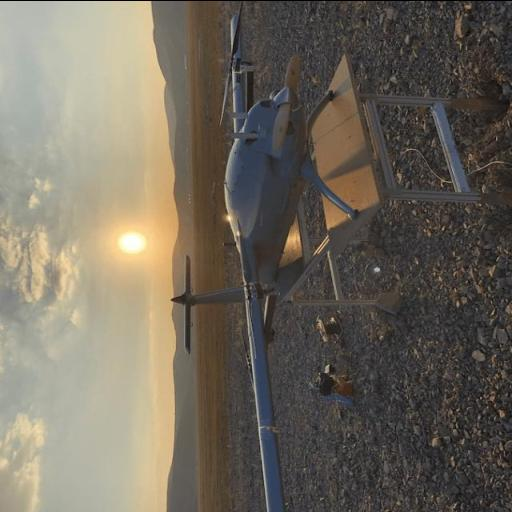uav: (160, 0, 356, 512)
